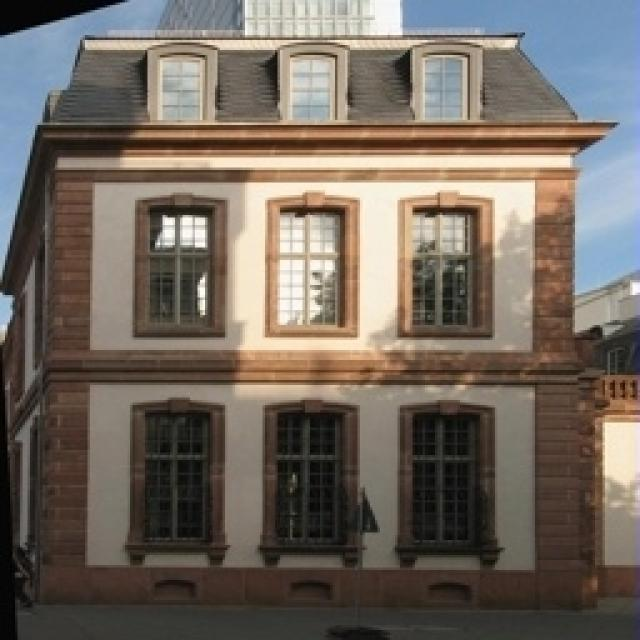Window: (280, 415, 345, 540), (147, 412, 210, 538), (415, 415, 475, 545), (414, 210, 478, 328), (280, 210, 340, 325), (150, 208, 210, 322), (422, 58, 466, 118), (292, 60, 336, 118), (160, 60, 200, 120)
